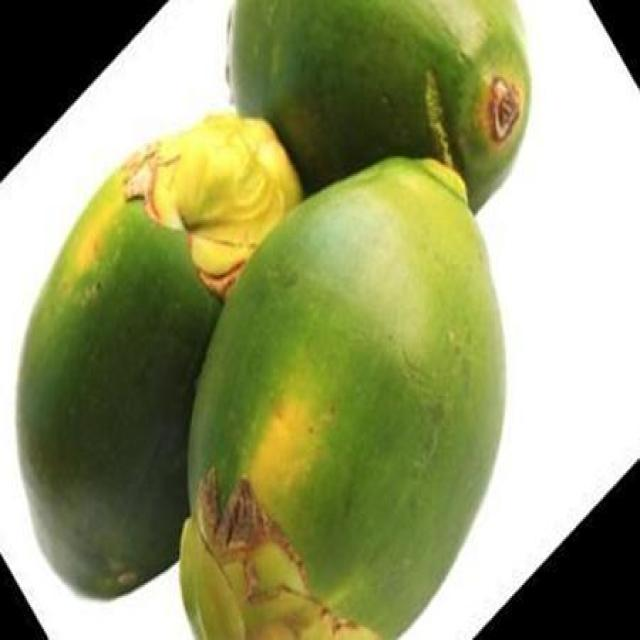good: (178, 158, 509, 638), (17, 114, 303, 601), (226, 0, 533, 215)
